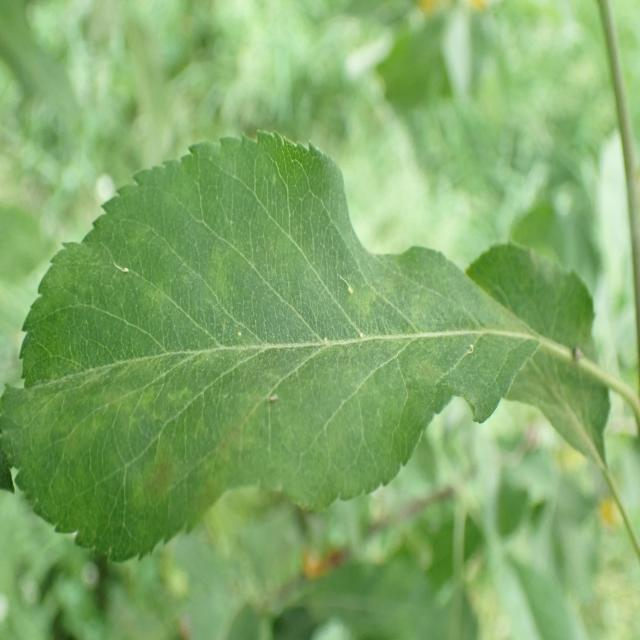scab: (50, 196, 512, 510)
